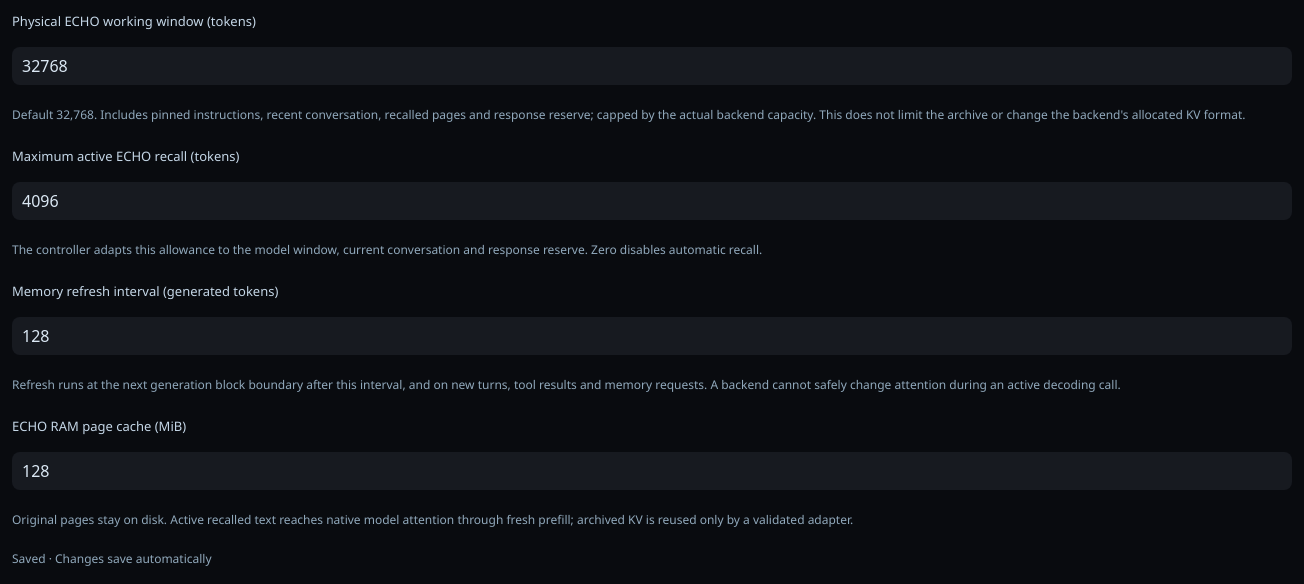
Test case: automatically saves bounded memory controls and explains when the runtime applies them
Replace the text in the number field labelled "Maximum active ECHO recall (tokens)" with "8192": [652, 201] box [12,182,1292,220]
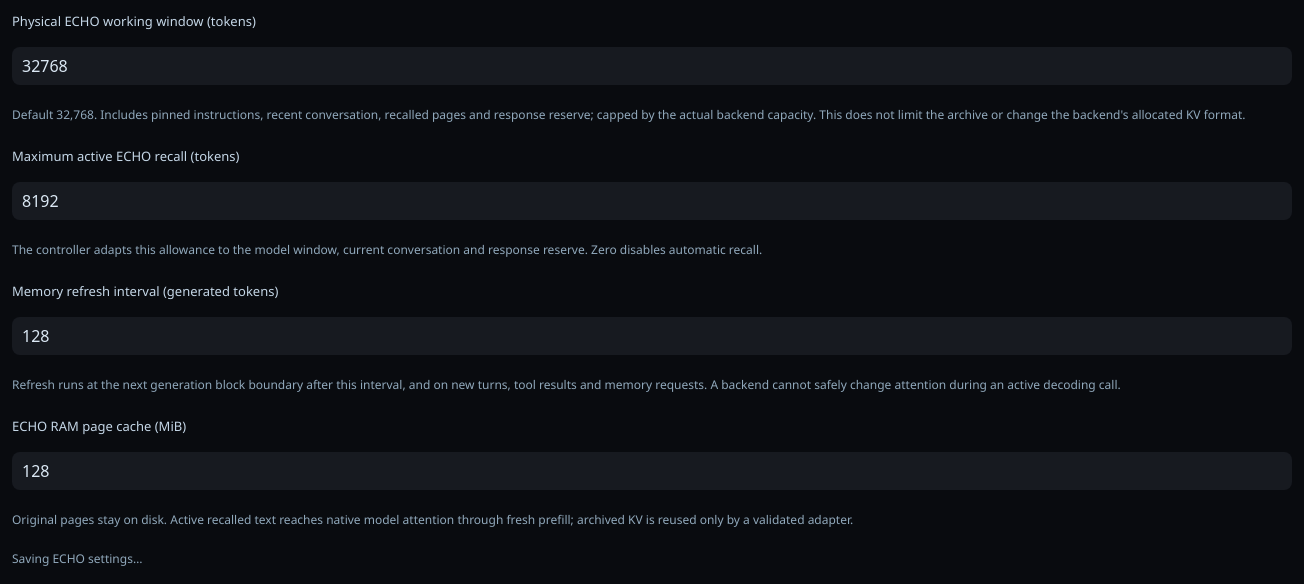
Replace the text in the number field labelled "Memory refresh interval (generated tokens)" with "256": [652, 336] box [12,317,1292,355]
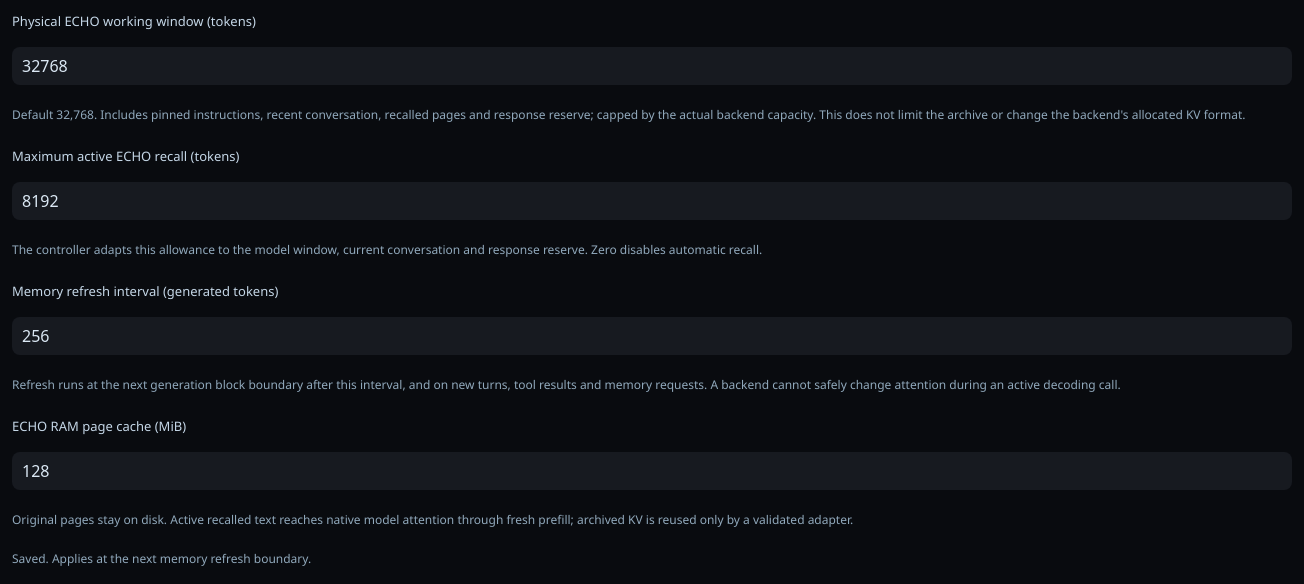
Result: the text "Saved. Applies at the next memory refresh boundary." is shown at [12,550,311,567]
